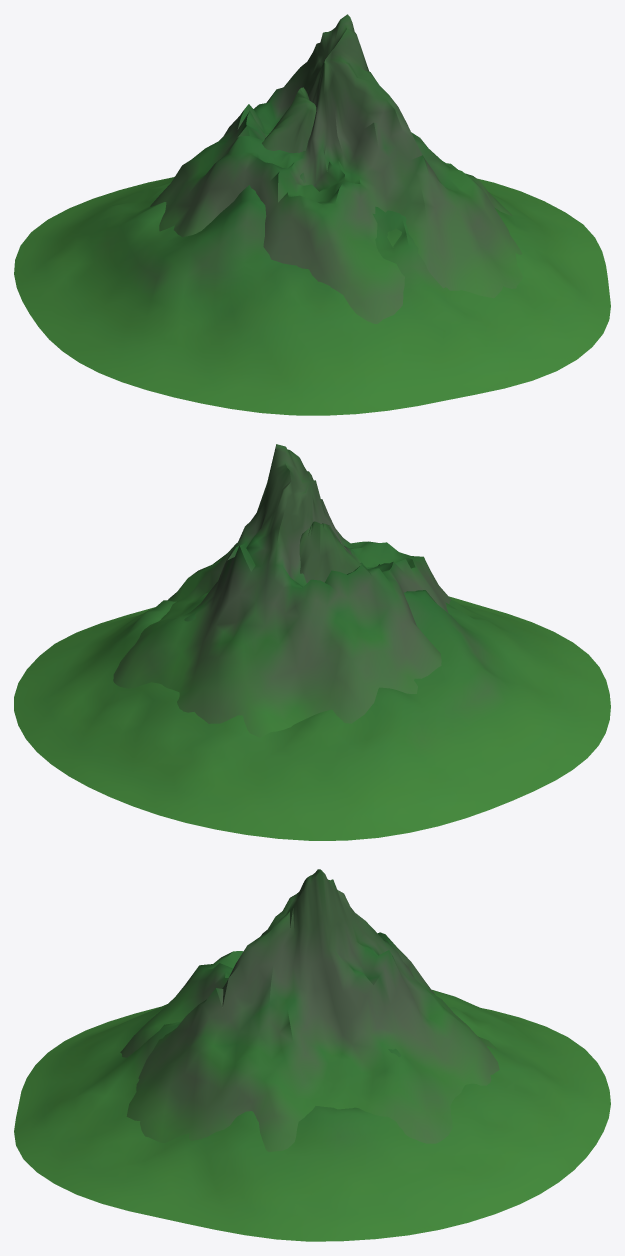
Rendered from env_beach.glb.
3 renders of one model, top to bottom at view 1: azimuth 30°, elevation 25°; view 2: azimuth 150°, elevation 25°; view 3: azimuth 270°, elevation 25°, orthographic.
Parts seen in each view (by area): view 1: bc_peak_b, bc_peak_a; view 2: bc_peak_b, bc_peak_a; view 3: bc_peak_b, bc_peak_a.
Boxes of the visible parts, <box> form: bc_peak_b: <box>14,87,610,415</box>; bc_peak_a: <box>150,14,522,323</box>; bc_peak_b: <box>14,521,610,840</box>; bc_peak_a: <box>113,444,450,737</box>; bc_peak_b: <box>14,990,610,1241</box>; bc_peak_a: <box>120,869,499,1151</box>.
Size of the model in its own units: 417 by 200 by 416.
